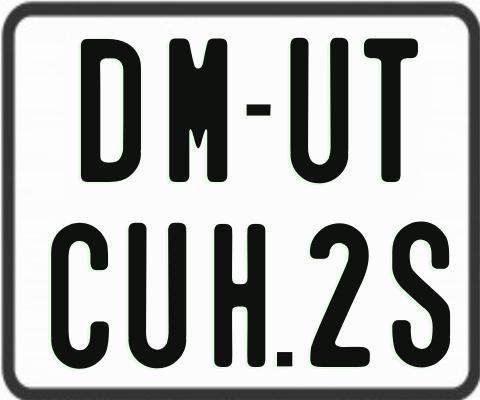2: (308, 222, 369, 372)
C: (48, 223, 108, 373)
D: (78, 37, 139, 181)
H: (212, 222, 266, 371)
M: (166, 38, 230, 182)
S: (390, 220, 450, 366)
T: (361, 38, 420, 186)
U: (127, 223, 190, 368), (290, 36, 349, 185)
